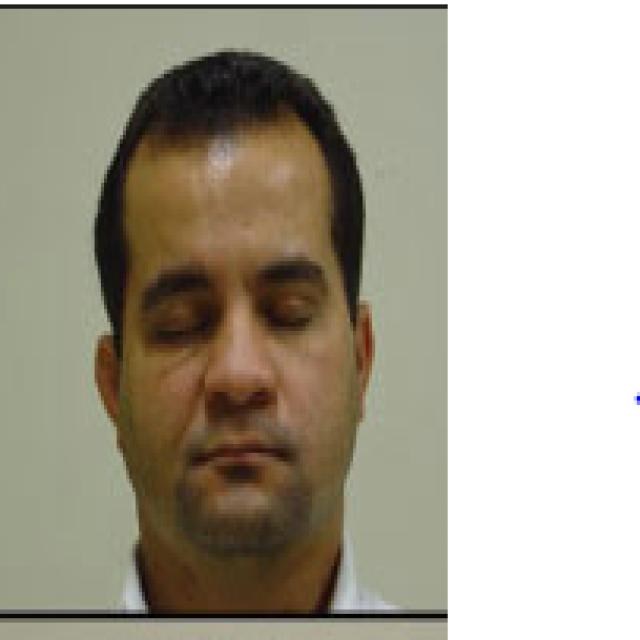normal_face: (115, 72, 360, 566)
